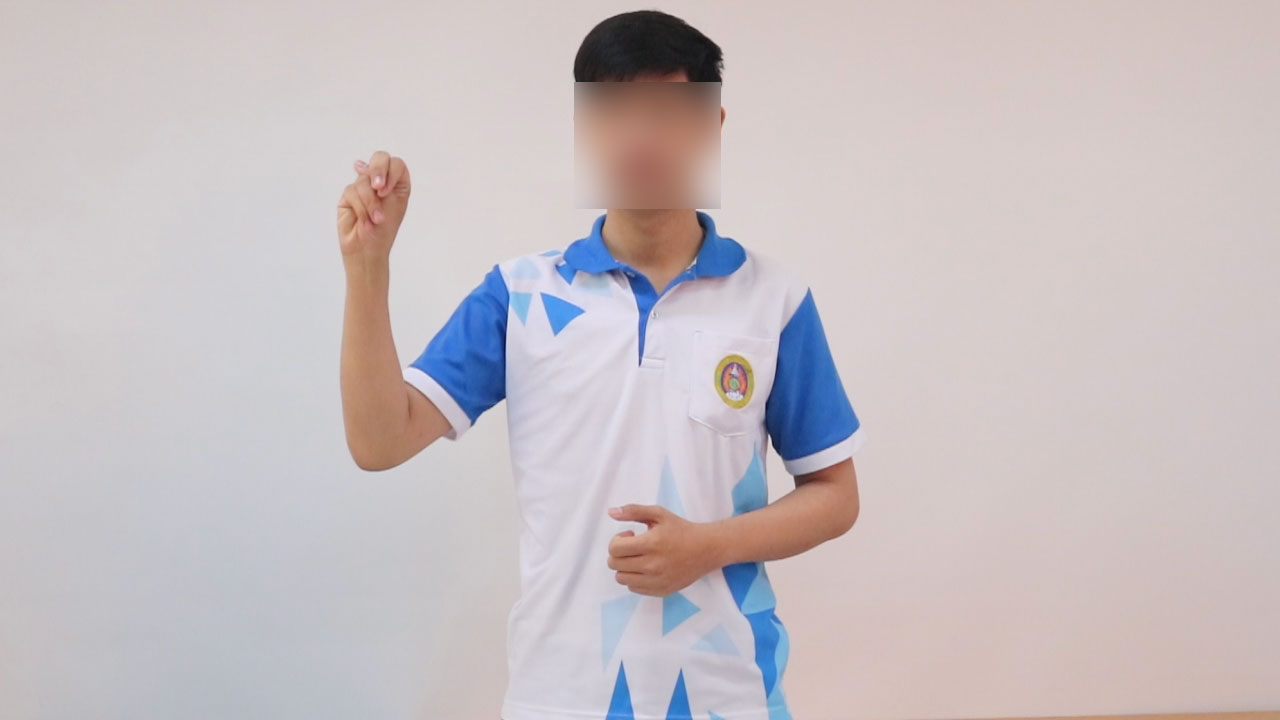nor: (321, 145, 419, 269)
